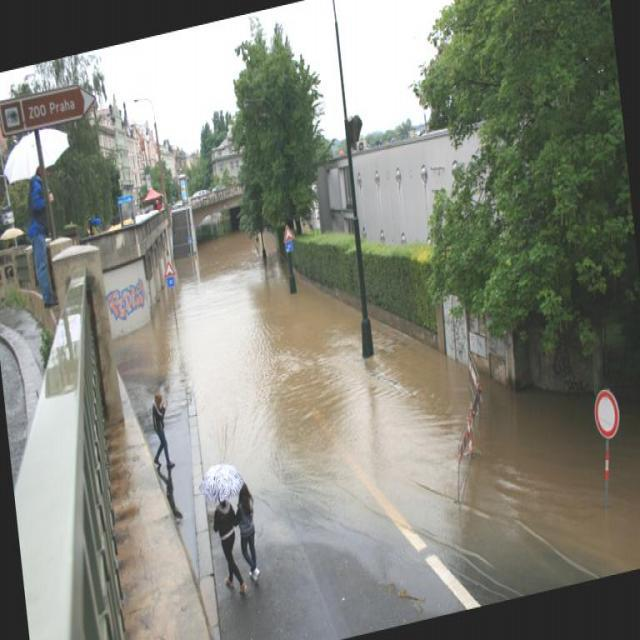flood: (137, 138, 639, 639)
